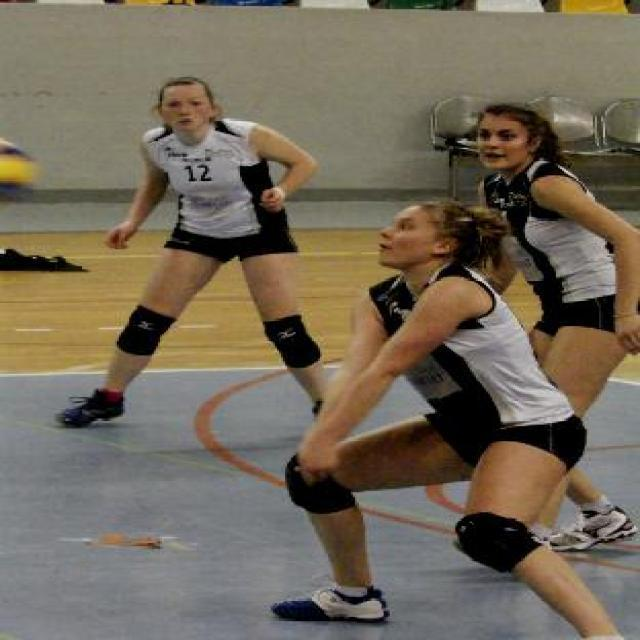volleyball: (0, 136, 40, 198)
